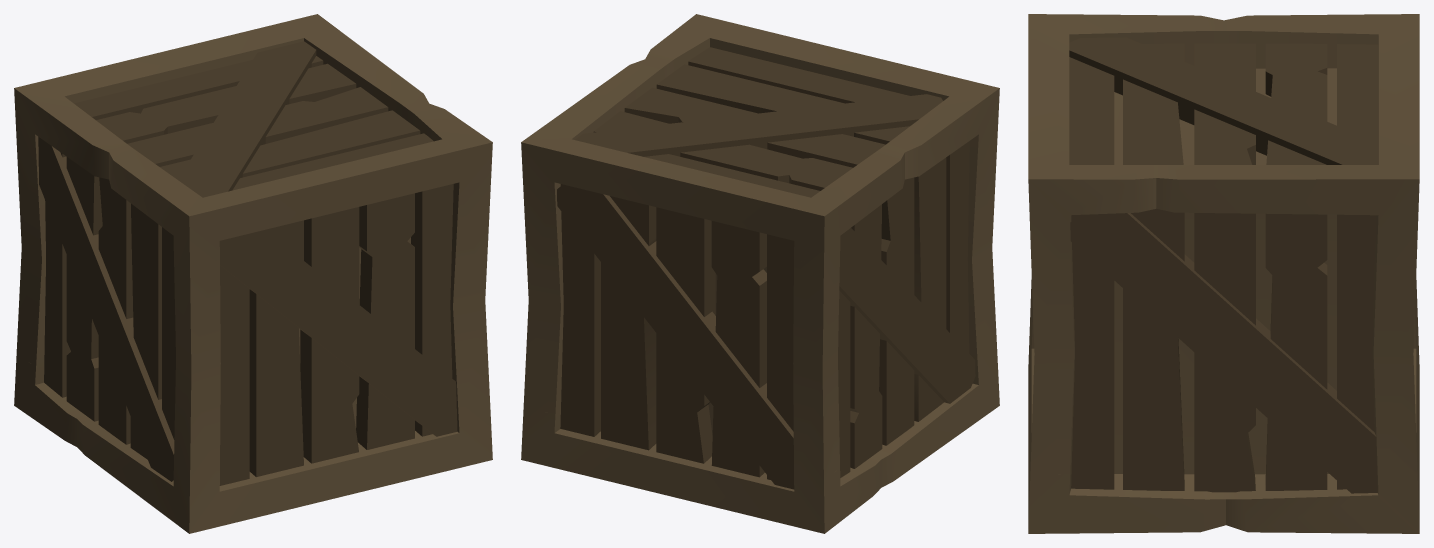
File: prop_crate.glb
3 renders of one model, left to right at view 1: azimuth 30°, elevation 25°; view 2: azimuth 150°, elevation 25°; view 3: azimuth 270°, elevation 25°, orthographic. The views are drawn at different scales.
Parts seen in each view (by area): view 1: Crate; view 2: Crate; view 3: Crate.
Part boxes in pixels (bbox=[...]): Crate: bbox=[14, 14, 492, 533]; Crate: bbox=[521, 14, 999, 533]; Crate: bbox=[1028, 14, 1419, 533].
Bounding box in the file's own units: 0.824 × 0.824 × 0.824.
